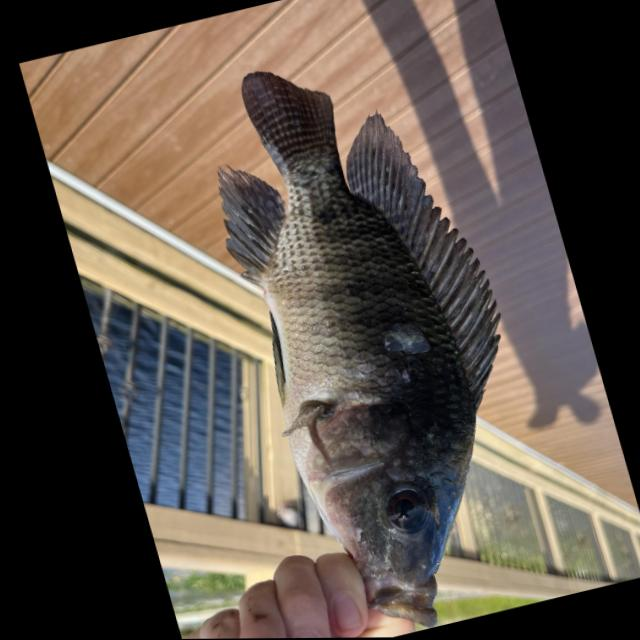Tilapia: (173, 29, 580, 639)
